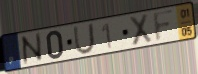0: (45, 30, 65, 61)
1: (101, 21, 113, 50)
F: (152, 7, 176, 44)
N: (19, 31, 46, 67)
U: (72, 21, 96, 56)
X: (128, 12, 154, 48)
